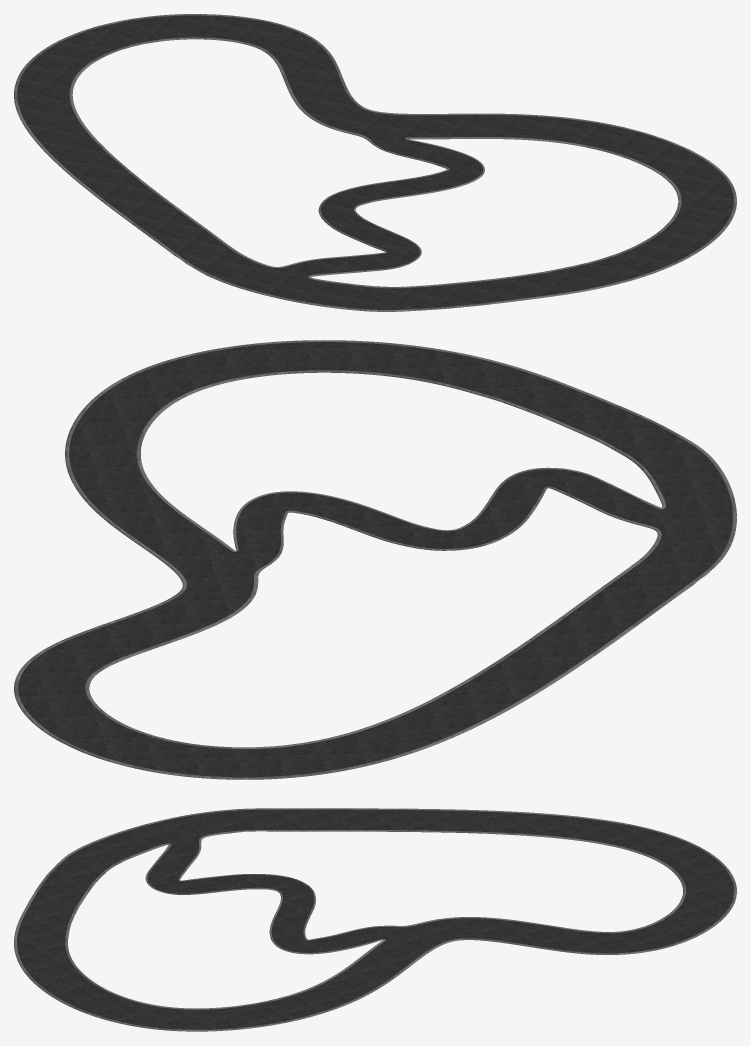
The model's file is racetrack.obj.
3 renders of one model, top to bottom at view 1: azimuth 30°, elevation 25°; view 2: azimuth 150°, elevation 25°; view 3: azimuth 270°, elevation 25°, orthographic. The views are drawn at different scales.
Parts seen in each view (by area): view 1: road, curb; view 2: road, curb; view 3: road, curb.
Part boxes in pixels (x1=…): road: x1=17, y1=15, x2=733, y2=309; curb: x1=14, y1=14, x2=736, y2=311; road: x1=18, y1=342, x2=732, y2=777; curb: x1=14, y1=340, x2=736, y2=779; road: x1=17, y1=809, x2=733, y2=1029; curb: x1=14, y1=808, x2=736, y2=1031.
Size of the model in its own units: 65.96 by 0.2307 by 90.41.
Materials: 2 (2 with a texture image).
